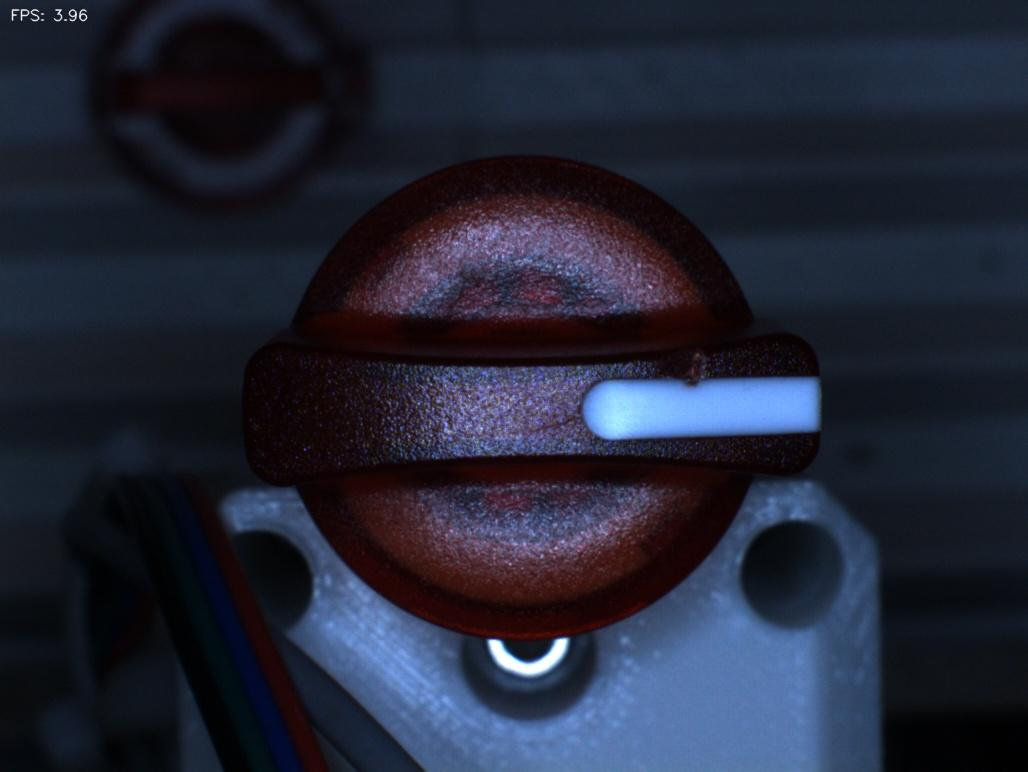Choc: (653, 321, 739, 407)
